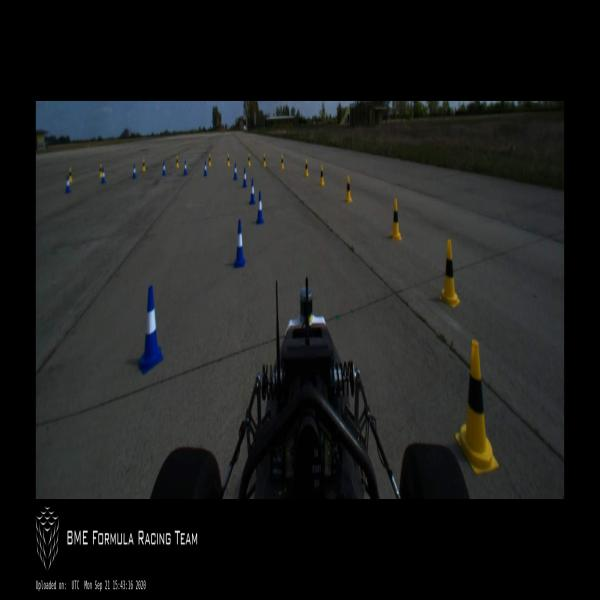blue_cone: (137, 286, 164, 375), (233, 220, 245, 268), (256, 191, 264, 224), (249, 179, 255, 205), (64, 175, 71, 194), (242, 168, 247, 188), (183, 160, 188, 176), (132, 164, 137, 179), (233, 163, 237, 180), (204, 160, 208, 176), (162, 161, 166, 176), (101, 169, 105, 183)
yellow_cone: (455, 340, 499, 475), (439, 240, 460, 308), (390, 198, 402, 240), (345, 175, 353, 202), (320, 164, 324, 186), (69, 167, 73, 182), (262, 153, 266, 167), (305, 159, 308, 176), (142, 160, 146, 172), (281, 154, 284, 170), (99, 163, 102, 177), (208, 154, 211, 168), (227, 153, 230, 167), (176, 155, 179, 168), (248, 153, 250, 167)
